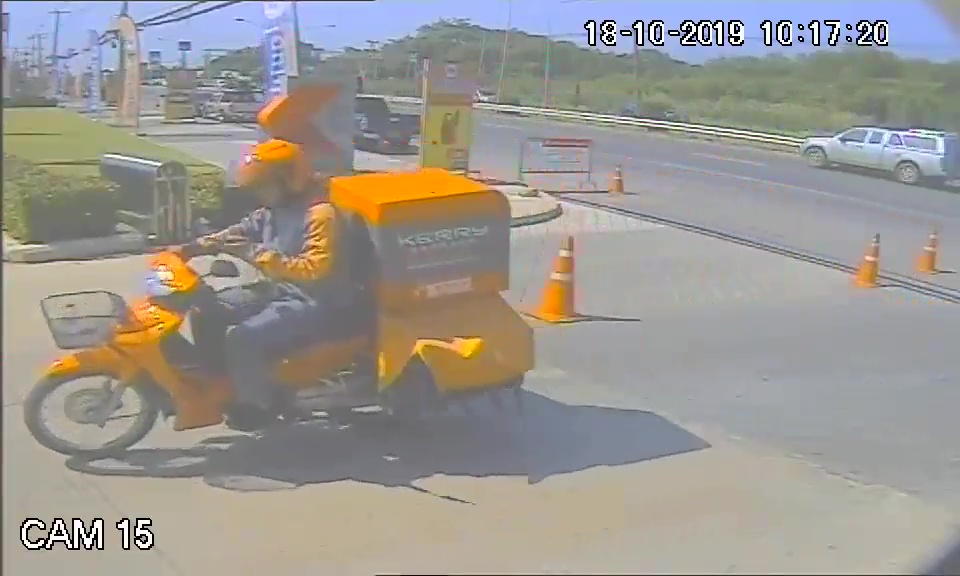motorcycle: (27, 244, 382, 466)
